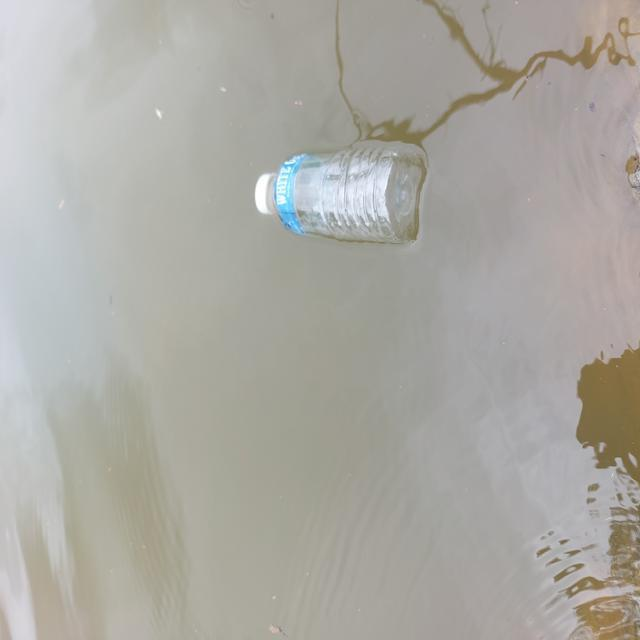waterbottle: (238, 119, 452, 275)
